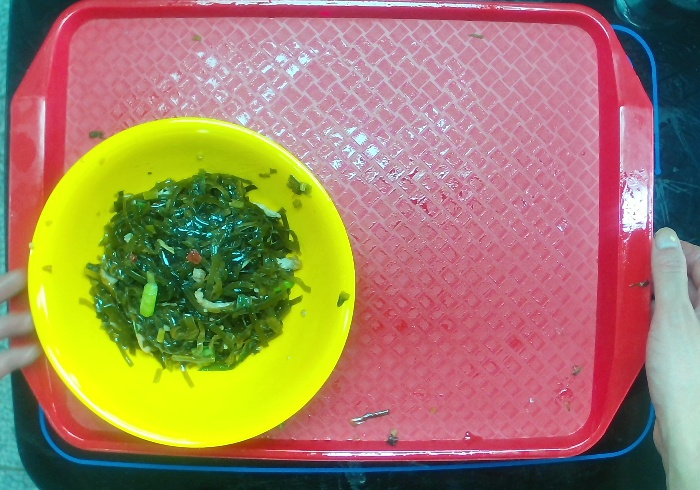YKMZ-Huang_Se_Tang_Wan: (24, 114, 357, 451)
